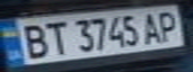3: (72, 16, 93, 52)
4: (106, 14, 127, 48)
5: (121, 11, 145, 47)
7: (90, 15, 109, 51)
A: (139, 10, 166, 45)
B: (15, 20, 51, 60)
P: (154, 9, 184, 43)
T: (39, 19, 69, 56)
